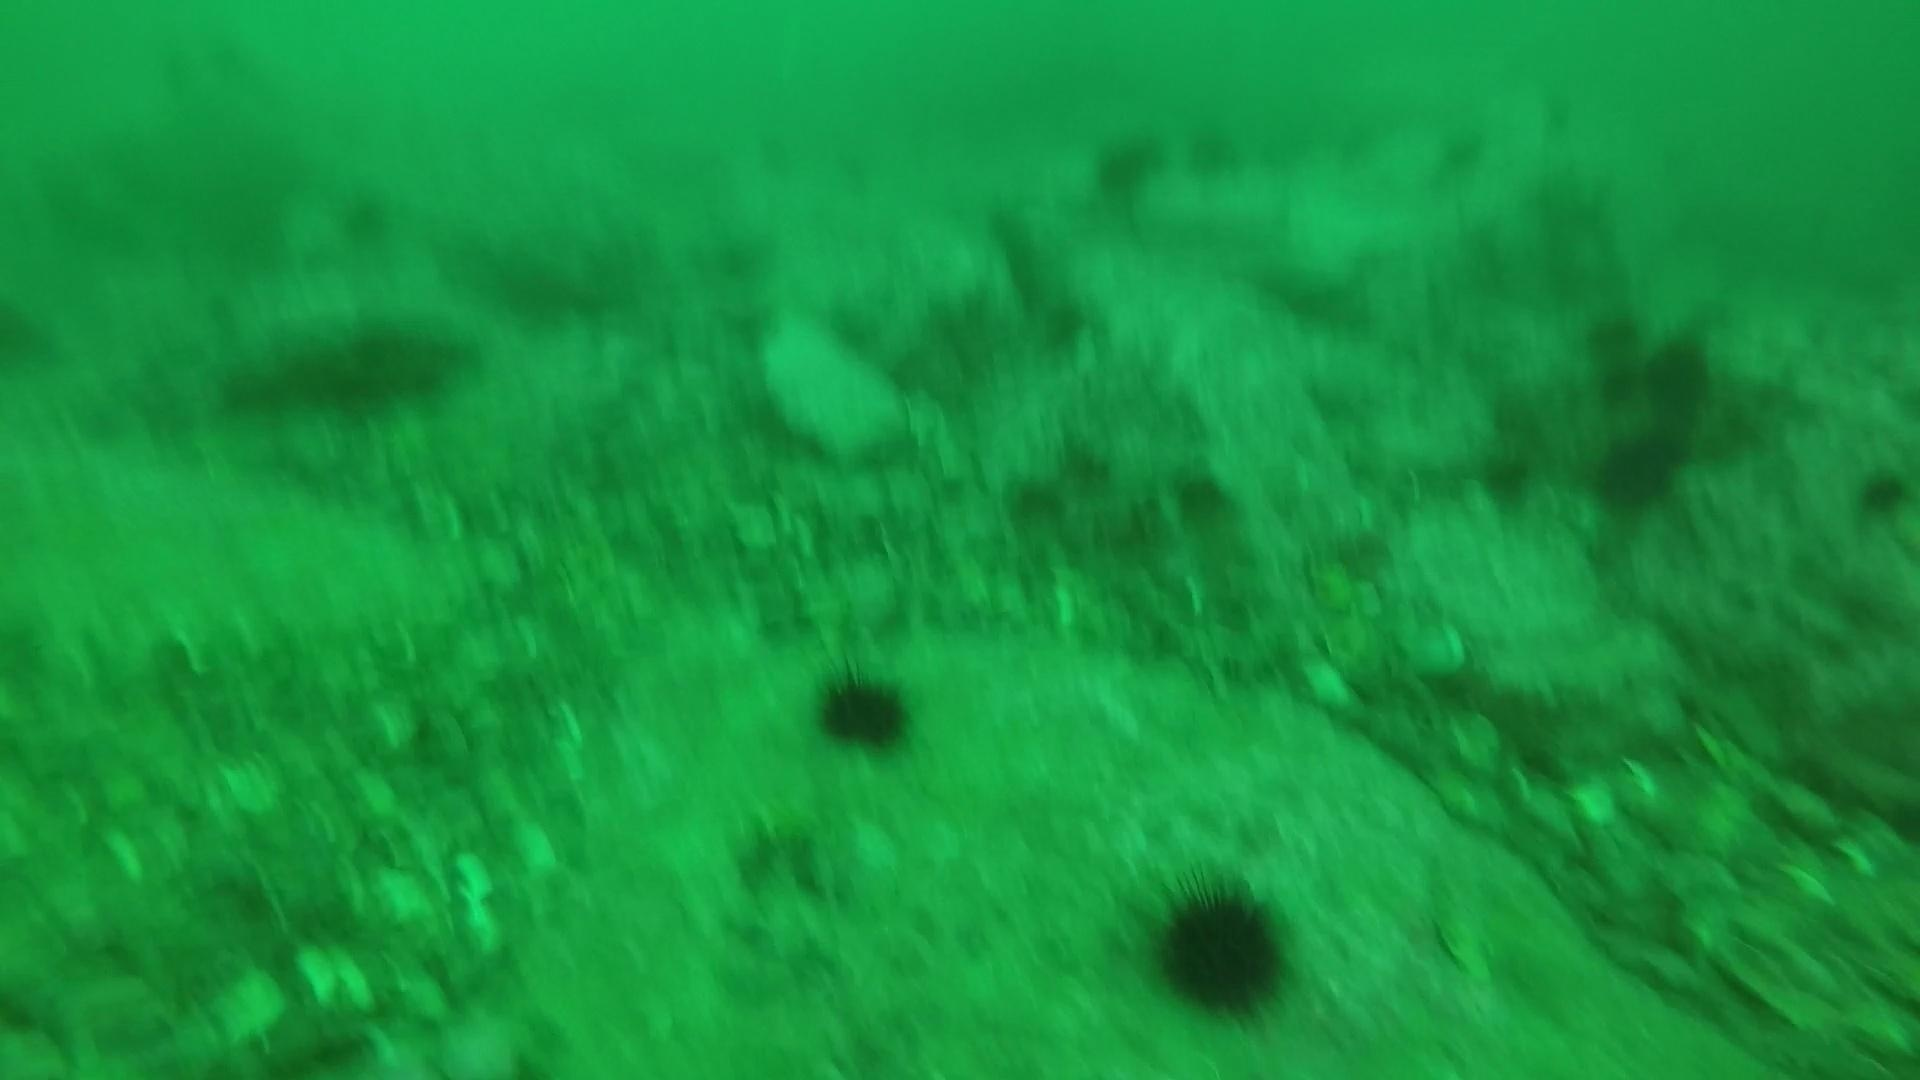echinus: (1141, 870, 1299, 1023), (808, 662, 920, 760), (1586, 425, 1691, 517), (1638, 328, 1720, 417), (1087, 125, 1166, 203), (1577, 303, 1651, 380), (331, 183, 400, 251), (1425, 116, 1495, 182), (1331, 115, 1400, 181), (1182, 117, 1246, 183)
